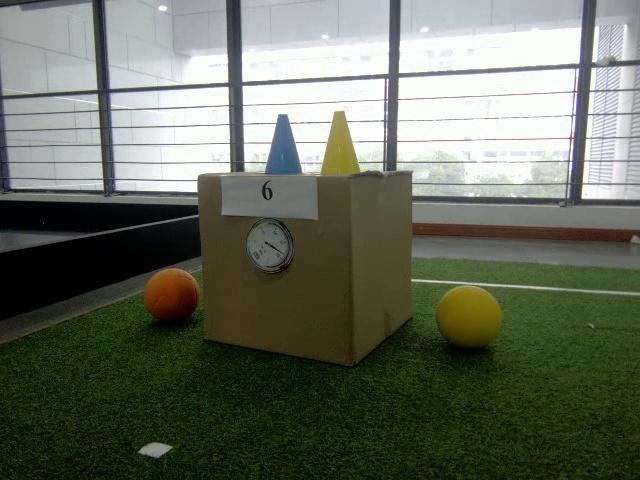6: (261, 179, 275, 202)
Dashboard: (244, 217, 294, 276)
blue_barrel: (262, 113, 306, 175)
orange_ball: (141, 267, 199, 322)
ssi: (252, 251, 261, 260)
yellow_ball: (435, 286, 503, 350)
yellow_barrel: (318, 110, 364, 176)
